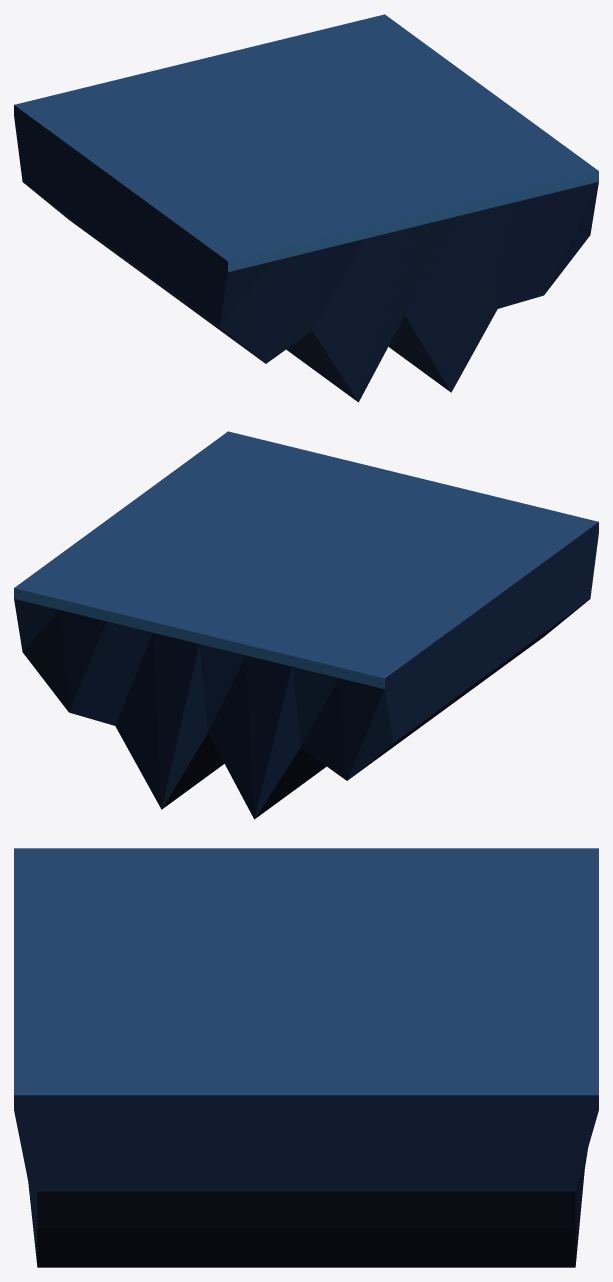
File: ground_long.obj
The picture shows the model from 3 angles, top to bottom: view 1: azimuth 30°, elevation 25°; view 2: azimuth 150°, elevation 25°; view 3: azimuth 270°, elevation 25°; orthographic projection. The views are drawn at different scales.
Visible parts, largest first — view 1: ground_long_M0, ground_long_M5, ground_long_M1, ground_long_M4; view 2: ground_long_M0, ground_long_M2, ground_long_M3, ground_long_M5, ground_long_M1, ground_long_M4; view 3: ground_long_M0, ground_long_M5, ground_long_M4.
Part boxes in pixels (x1,y1,x2,y2): ground_long_M0: (14,14,598,261); ground_long_M5: (14,105,598,402); ground_long_M1: (228,171,598,272); ground_long_M4: (24,183,450,402); ground_long_M0: (14,431,598,678); ground_long_M2: (22,610,384,818); ground_long_M3: (14,599,393,818); ground_long_M5: (385,522,598,742); ground_long_M1: (14,588,384,689); ground_long_M4: (162,600,588,819); ground_long_M0: (14,848,598,1095); ground_long_M5: (14,1095,598,1265); ground_long_M4: (37,1191,575,1267).
Bounding box in the file's own units: 2 × 1 × 2.
